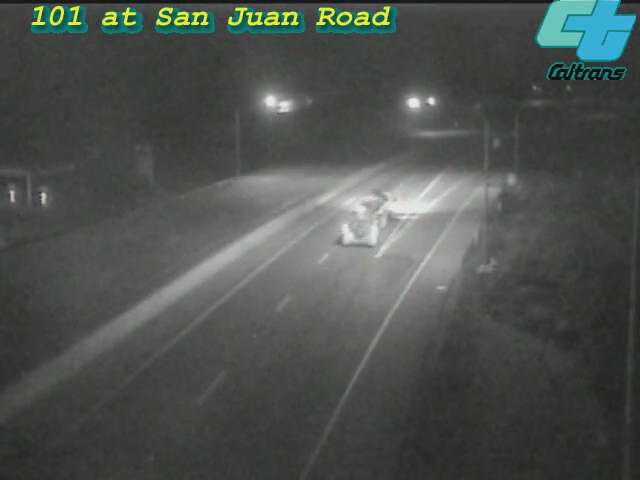vehicle: (336, 167, 416, 247)
